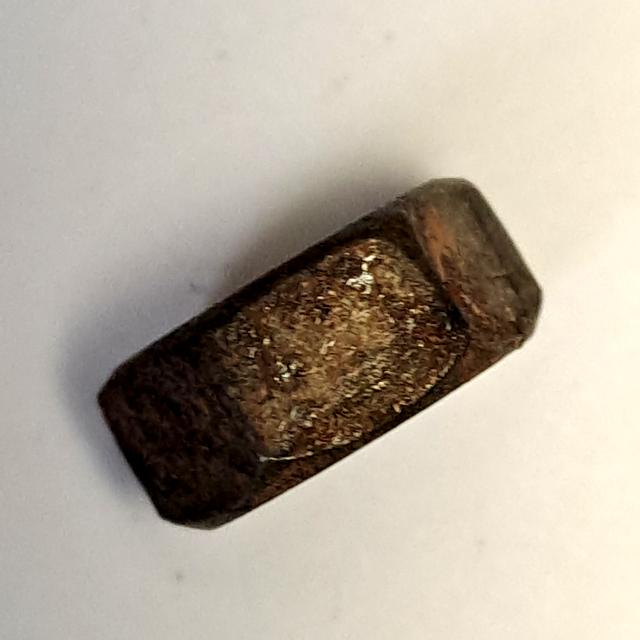Side_Rust: (83, 164, 556, 547)
